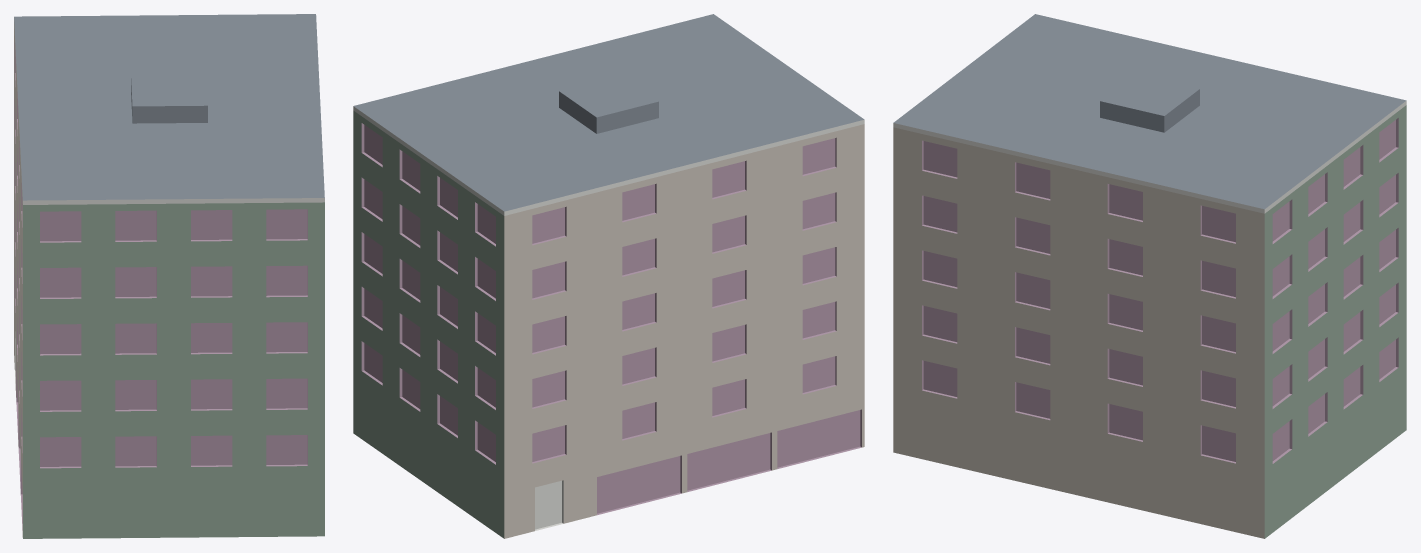
Rendered from doitt-584049__lod_0.glb.
The picture shows the model from 3 angles, left to right: view 1: azimuth 30°, elevation 25°; view 2: azimuth 150°, elevation 25°; view 3: azimuth 270°, elevation 25°; orthographic projection. The views are drawn at different scales.
Bounding box in the file's own units: 29.66 × 24.52 × 32.94.
